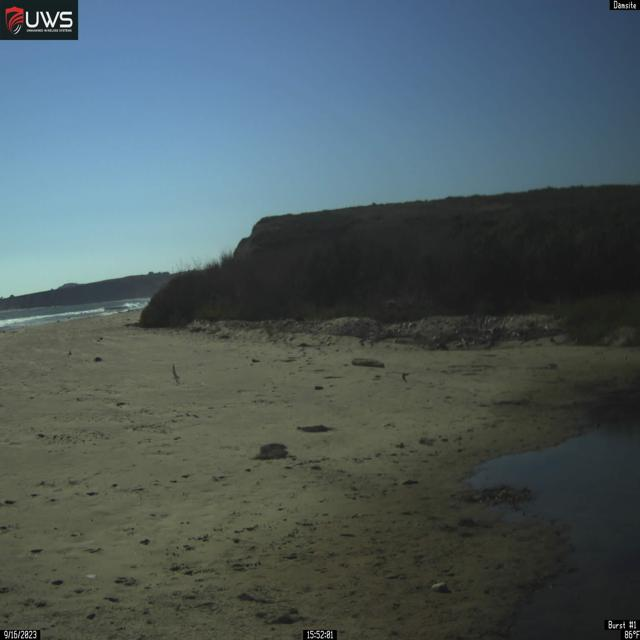bird: (172, 364, 181, 385)
